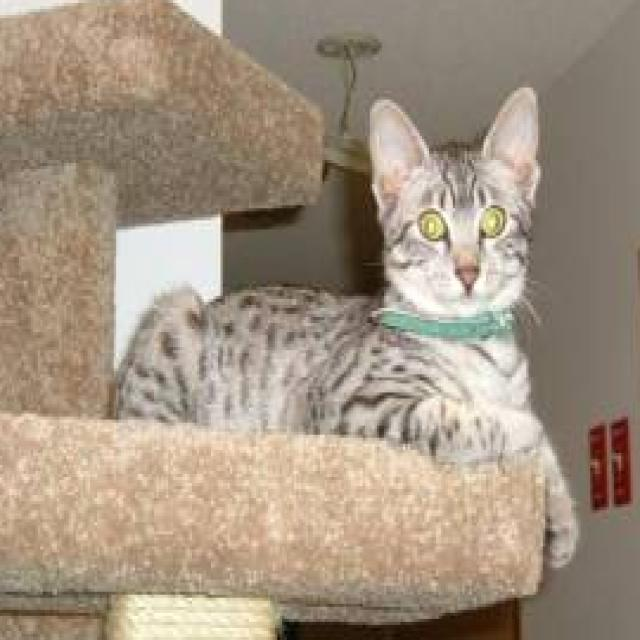Egyptian Mau: (106, 82, 583, 561)
